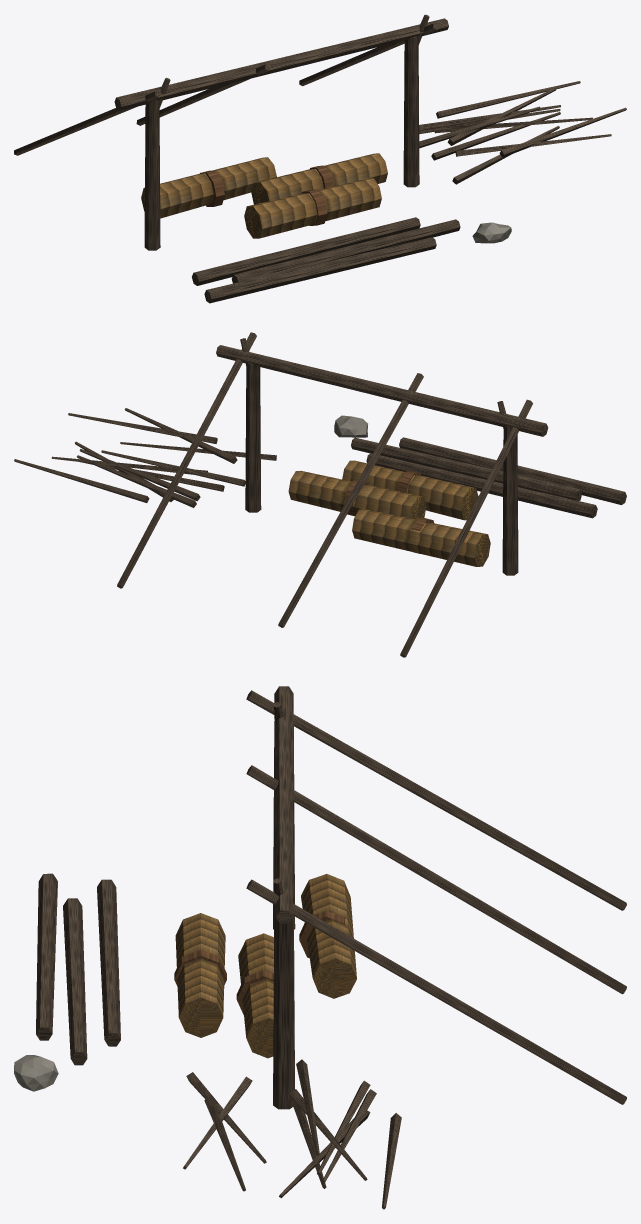
The model's file is cantiere_posta_caccia.glb.
3 views of the same model, one above another, from view 1: azimuth 30°, elevation 25°; view 2: azimuth 150°, elevation 25°; view 3: azimuth 270°, elevation 25° (orthographic). The views are drawn at different scales.
Parts seen in each view (by area): view 1: cantiere_posta_caccia; view 2: cantiere_posta_caccia; view 3: cantiere_posta_caccia.
Boxes of the visible parts, x1,y1,x2,y2 form: cantiere_posta_caccia: [14, 14, 626, 303]; cantiere_posta_caccia: [14, 332, 626, 657]; cantiere_posta_caccia: [14, 686, 626, 1209].
Bounding box in the file's own units: 5.77 × 1.86 × 4.41.
Materials: 4 (4 with a texture image).
